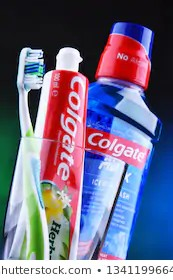colgate-Plax: (75, 11, 163, 260)
toothbrush: (20, 43, 47, 261)
